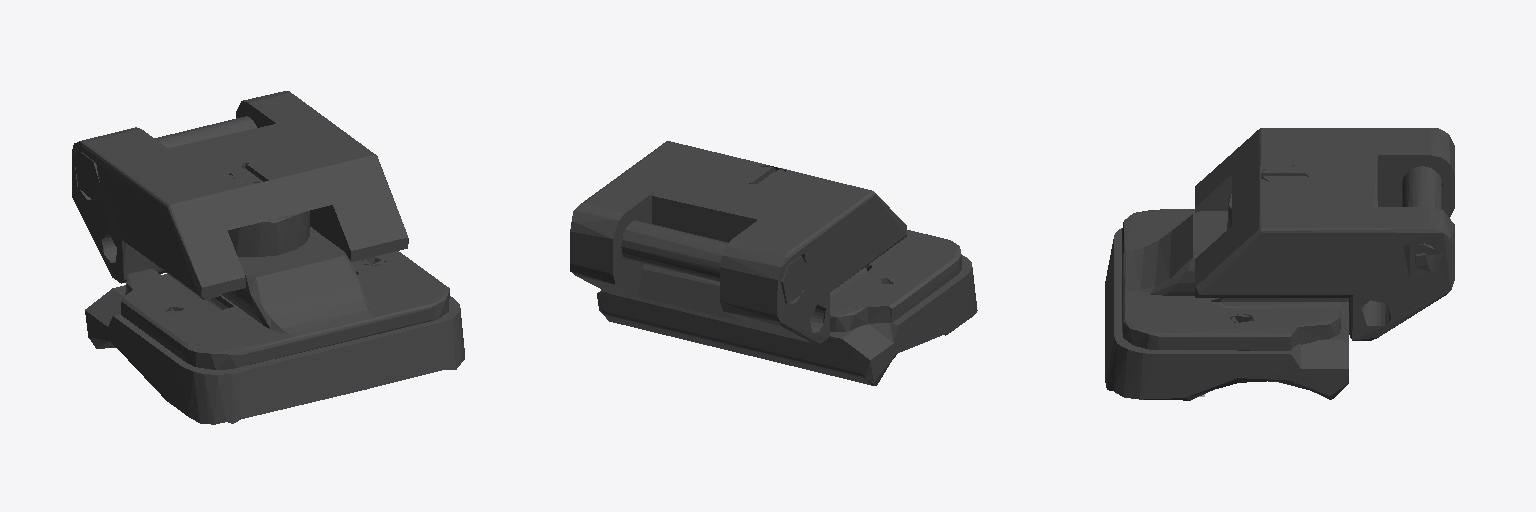
3 renders of one model, left to right at view 1: azimuth 30°, elevation 25°; view 2: azimuth 150°, elevation 25°; view 3: azimuth 270°, elevation 25°, orthographic.
Size of the model in its own units: 0.039 by 0.0222 by 0.0431.
Materials: 2 (1 with a texture image).